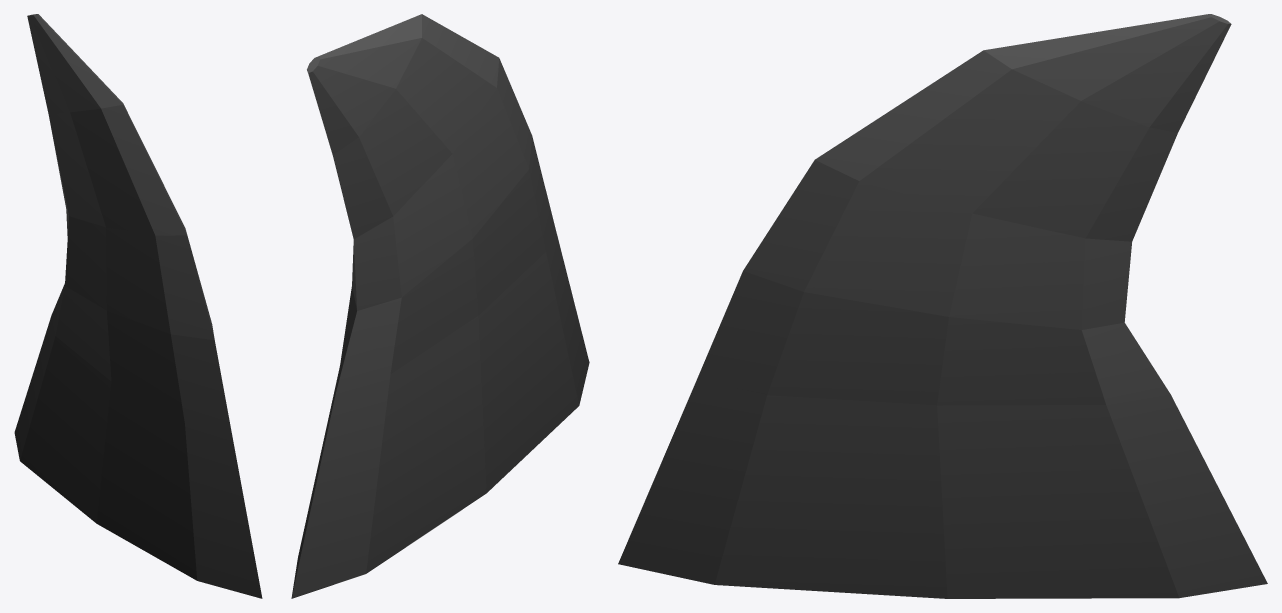
File: shark_dorsal.glb
3 views of the same model, side by side, from view 1: azimuth 30°, elevation 25°; view 2: azimuth 150°, elevation 25°; view 3: azimuth 270°, elevation 25° (orthographic). The views are drawn at different scales.
Parts seen in each view (by area): view 1: dorsal.006; view 2: dorsal.006; view 3: dorsal.006.
Part boxes in pixels (x1,y1,x2,y2): dorsal.006: (14, 14, 262, 598); dorsal.006: (291, 14, 589, 598); dorsal.006: (618, 14, 1267, 598).
Size of the model in its own units: 0.3154 by 1.63 by 1.69.
Materials: 1 (1 with a texture image).
